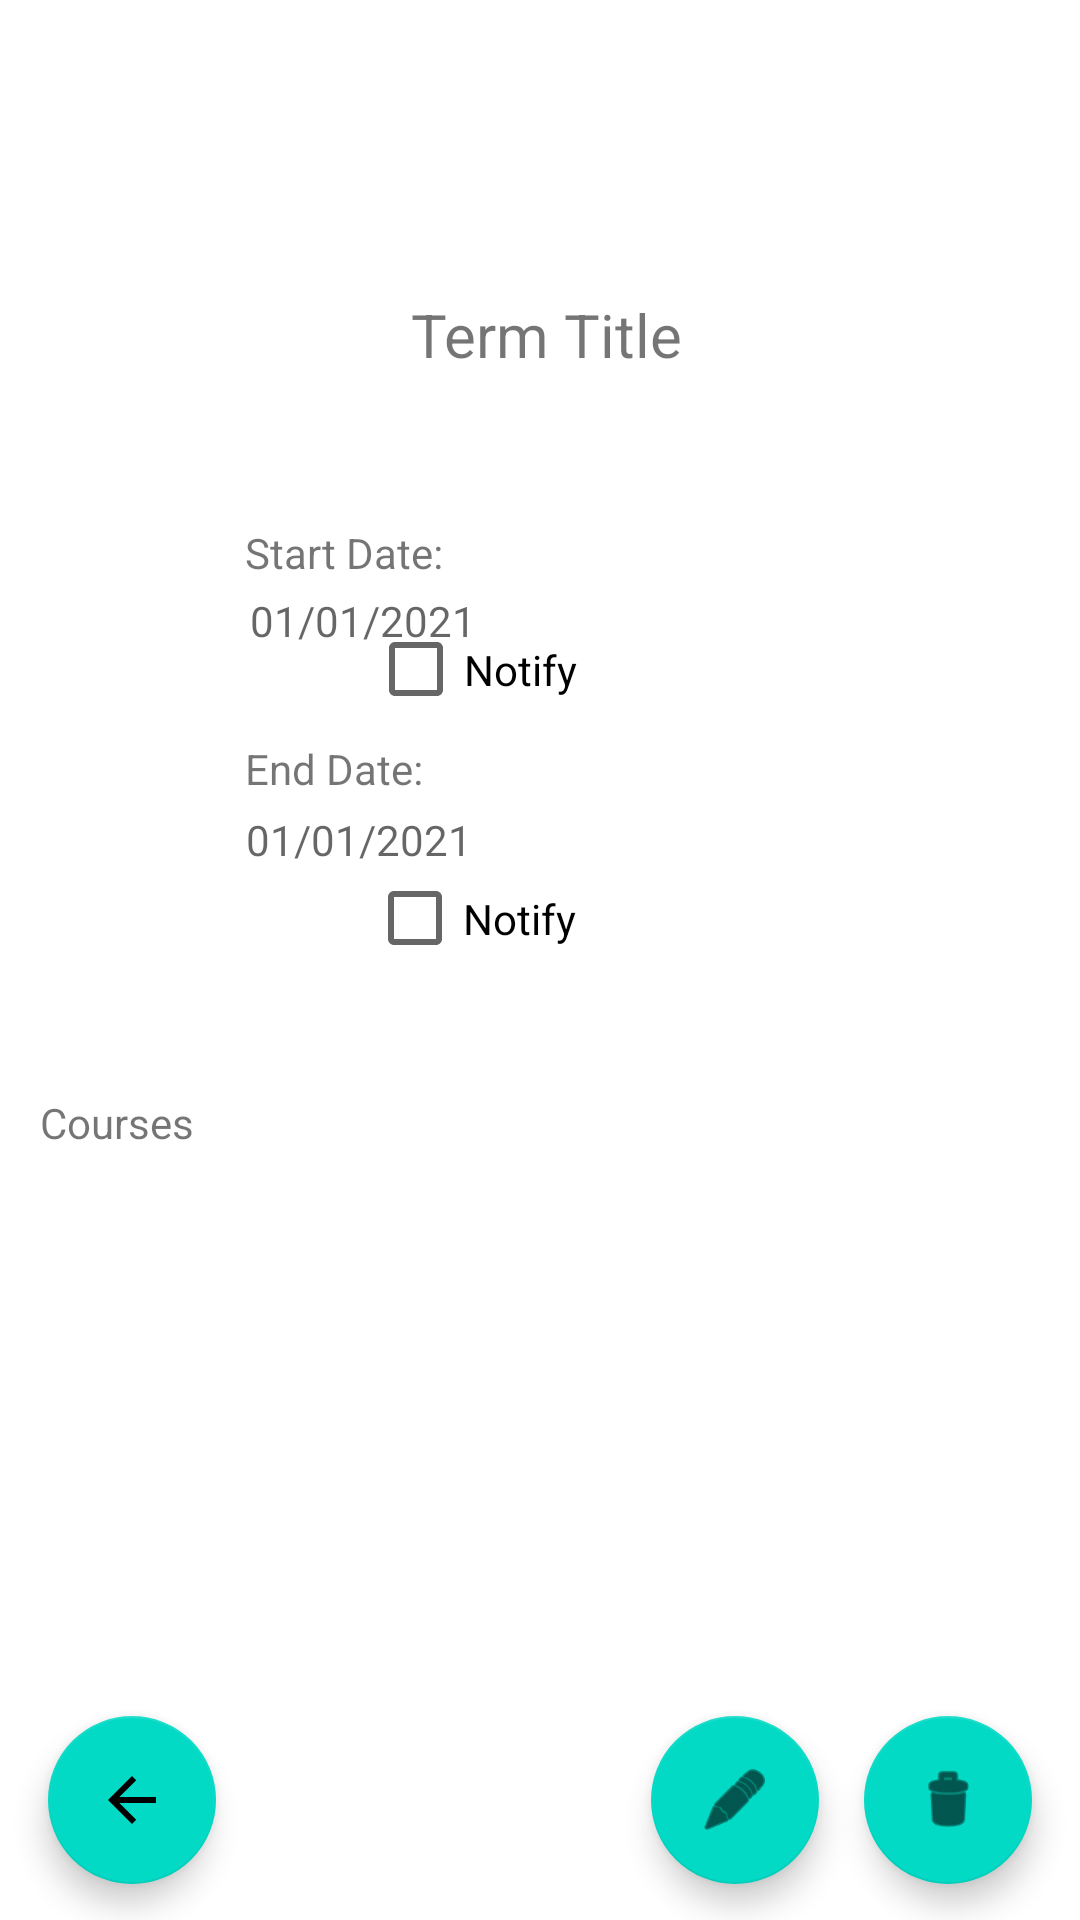

Locate icon controls on the screen. Image size 1080 × 1920, boxes as box=[x1, y1, x2, y2].
delete: box=[864, 1716, 1032, 1884]
edit: box=[651, 1716, 819, 1884]
